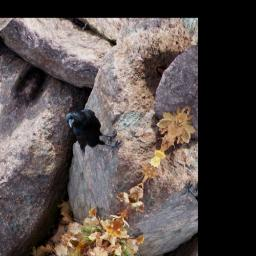Crow: (48, 99, 131, 174)
